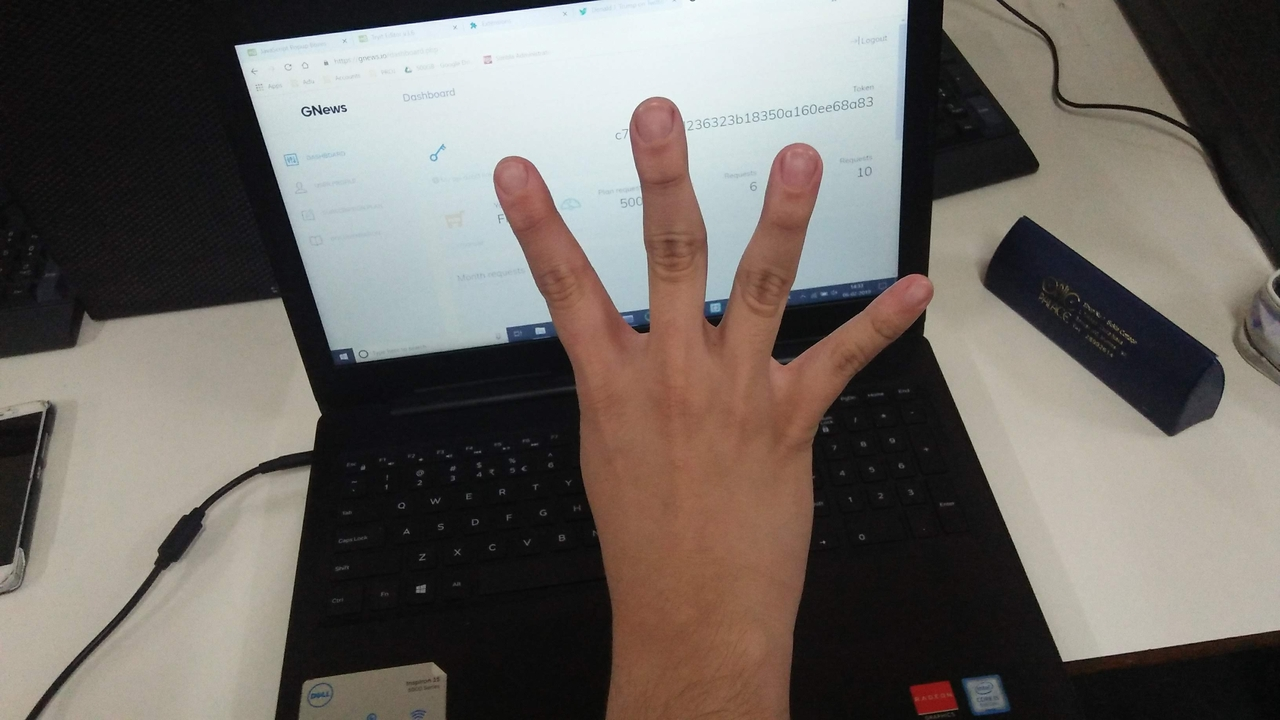fingertip: (624, 94, 690, 154), (484, 150, 548, 208), (762, 140, 826, 198), (878, 264, 944, 314)
